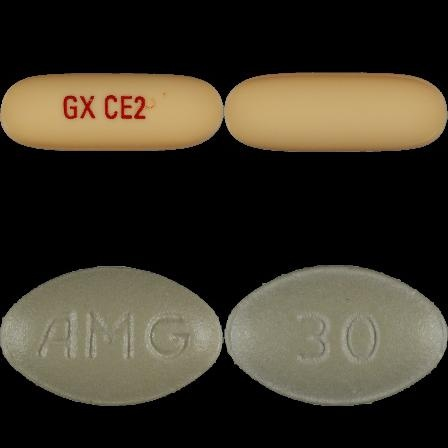69189-0712: (0, 0, 224, 224)
